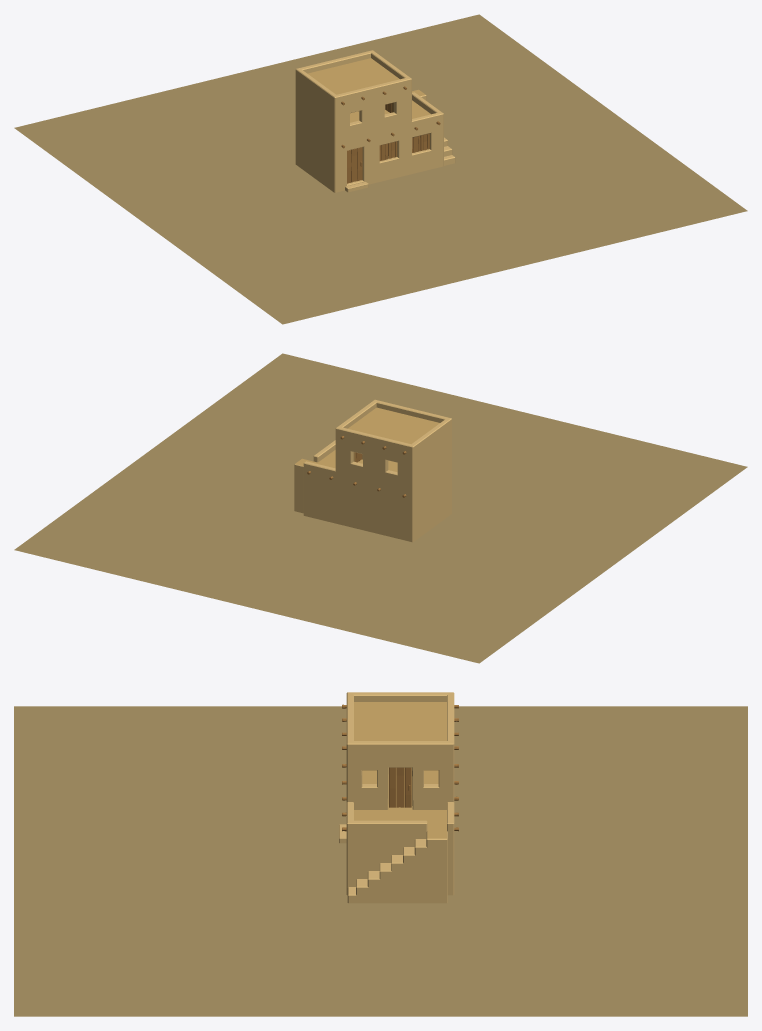
Rendered from Tile 38_Combined.fbx.
The picture shows the model from 3 angles, top to bottom: view 1: azimuth 30°, elevation 25°; view 2: azimuth 150°, elevation 25°; view 3: azimuth 270°, elevation 25°; orthographic projection. The views are drawn at different scales.
Parts seen in each view (by area): view 1: MeshBaker_mesh_mesh; view 2: MeshBaker_mesh_mesh; view 3: MeshBaker_mesh_mesh.
Boxes of the visible parts, box(x1,y1,x2,y2) form: MeshBaker_mesh_mesh: box(14, 14, 747, 324); MeshBaker_mesh_mesh: box(14, 353, 747, 663); MeshBaker_mesh_mesh: box(14, 692, 747, 1016).
Size of the model in its own units: 3000 by 589 by 3000.
